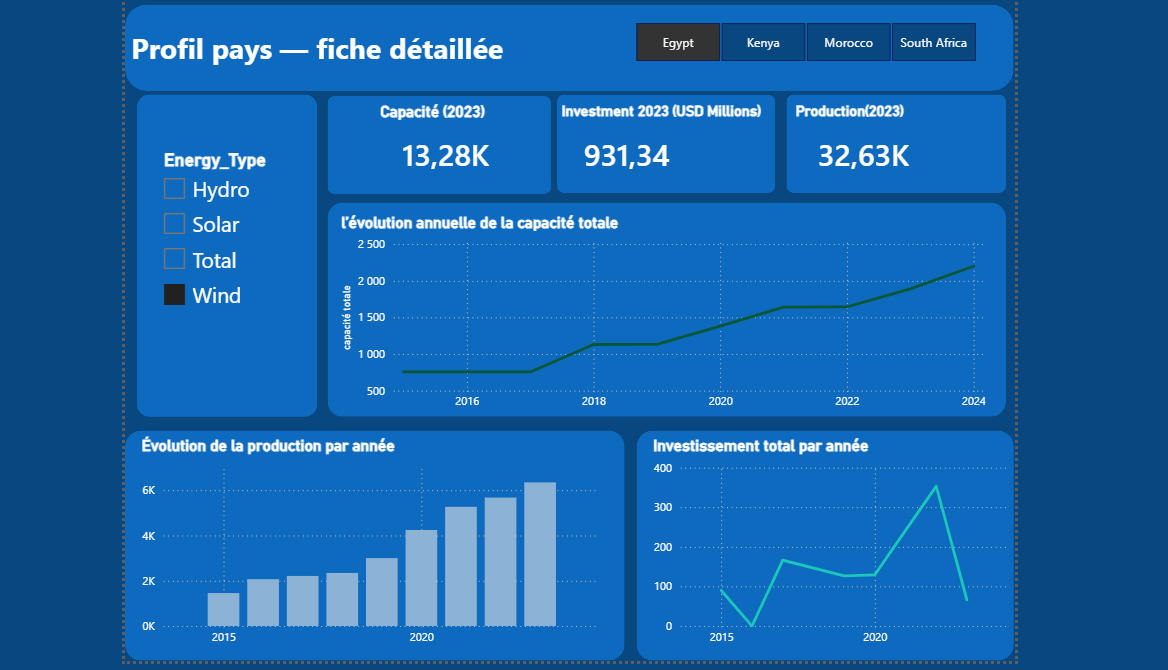

Layout of this report page (visuals, bound fields, positions):
{"tool":"powerbi","page":{"name":"profil par pays","canvas":[960,720],"ordinal":1},"visuals":[{"type":"shape","box":[552.2,471.3,407.4,248.4],"z":0},{"type":"shape","box":[218.2,109.8,241.5,105.7],"z":1000},{"type":"shape","title":"Profil pays — fiche détaillée","box":[0,11,959.3,93.3],"z":2000},{"type":"shape","box":[12.8,109.3,194.5,347.8],"z":3000},{"type":"slicer","fields":{"Values":["Dim_Energy.Energy_Type"]},"box":[28.4,161.8,178.8,305.2],"z":4000},{"type":"slicer","fields":{"Values":["Dim_Country.Country"]},"box":[527,24.7,415.8,54.9],"z":5000},{"type":"cardVisual","title":"Capacité  (2023)","fields":{"Data":["Sum(Capacity (MW).capacite)"]},"box":[269.7,116.4,190.2,90.8],"z":6000},{"type":"shape","box":[467,109.3,235.6,106.5],"z":7000},{"type":"cardVisual","title":"Investment 2023 (USD Millions)","fields":{"Data":["Sum(Investment (USD M).investisement)"]},"box":[467,116.4,225.7,90.8],"z":8000},{"type":"shape","box":[714,109.3,237,106.5],"z":9000},{"type":"cardVisual","title":"Production(2023) ","fields":{"Data":["Sum(Production (GWh).Production)"]},"box":[719.7,116.4,227.1,90.8],"z":10000},{"type":"shape","box":[218.6,225.7,732.4,231.4],"z":11000},{"type":"lineChart","title":"l’évolution annuelle de la capacité totale","fields":{"Y":["Sum(Capacity (MW).Capacity)"],"Category":["Capacity (MW).Year"]},"box":[228.5,235.6,705.5,221.4],"z":12000},{"type":"shape","box":[0,471.3,539.4,248.4],"z":13000},{"type":"columnChart","title":"Évolution de la production par année","fields":{"Y":["Sum(Production (GWh).Production)"],"Category":["Production (GWh).Year"]},"box":[12.8,478.3,503.9,234.2],"z":14000},{"type":"lineChart","title":"Investissement total par année","fields":{"Category":["Investment (USD M).Year"],"Y":["Sum(Investment (USD M).Investment)"]},"box":[564.9,478.3,394.6,234.2],"z":15000}]}

Visuals, with their boxes on the page's 960x720 design canvas (x1, y1, x2, y2). These are canvas units, not pixel positions in the 1168x670 screenshot, which may show the page scaled, cropped or inside an application window:
shape: box(552, 471, 960, 720)
shape: box(218, 110, 460, 216)
"Profil pays — fiche détaillée" shape: box(0, 11, 959, 104)
shape: box(13, 109, 207, 457)
slicer - Dim_Energy.Energy_Type: box(28, 162, 207, 467)
slicer - Dim_Country.Country: box(527, 25, 943, 80)
"Capacité  (2023)" cardVisual: box(270, 116, 460, 207)
shape: box(467, 109, 703, 216)
"Investment 2023 (USD Millions)" cardVisual: box(467, 116, 693, 207)
shape: box(714, 109, 951, 216)
"Production(2023) " cardVisual: box(720, 116, 947, 207)
shape: box(219, 226, 951, 457)
"l’évolution annuelle de la capacité totale" lineChart: box(228, 236, 934, 457)
shape: box(0, 471, 539, 720)
"Évolution de la production par année" columnChart: box(13, 478, 517, 712)
"Investissement total par année" lineChart: box(565, 478, 960, 712)
